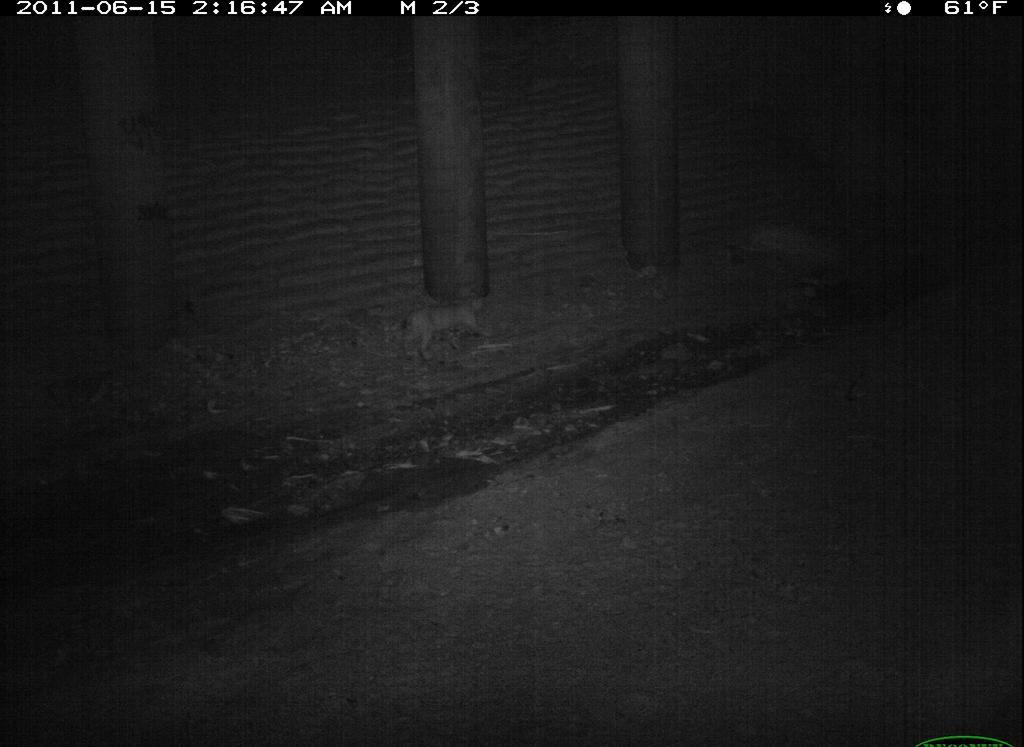bobcat: (786, 574, 1007, 737)
